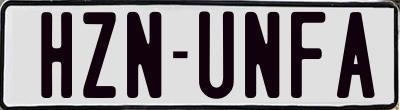A: (336, 12, 379, 99)
F: (289, 9, 324, 101)
H: (39, 11, 76, 99)
N: (125, 10, 159, 97), (244, 12, 278, 99)
U: (196, 11, 231, 101)
Z: (81, 10, 114, 98)
